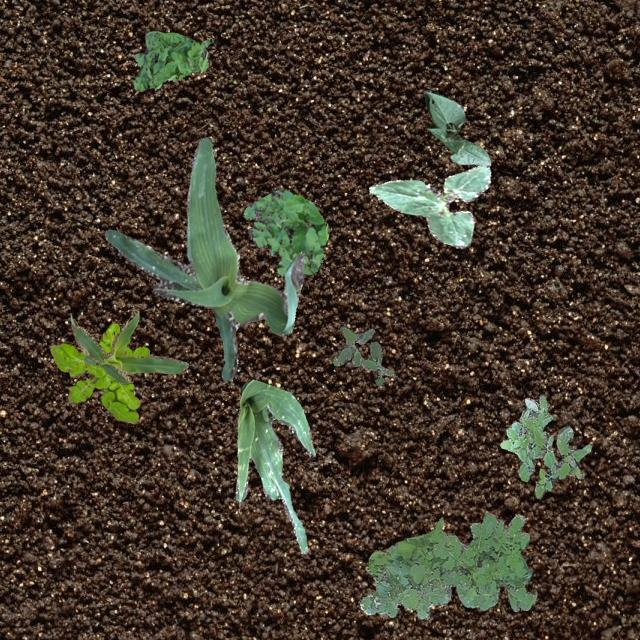crop: (104, 137, 304, 380), (234, 378, 314, 554), (368, 164, 490, 248), (70, 308, 188, 382), (424, 88, 489, 166)
weed: (358, 512, 536, 618), (50, 322, 148, 422), (500, 394, 590, 498), (242, 188, 328, 276), (132, 30, 212, 90), (332, 324, 392, 384)
